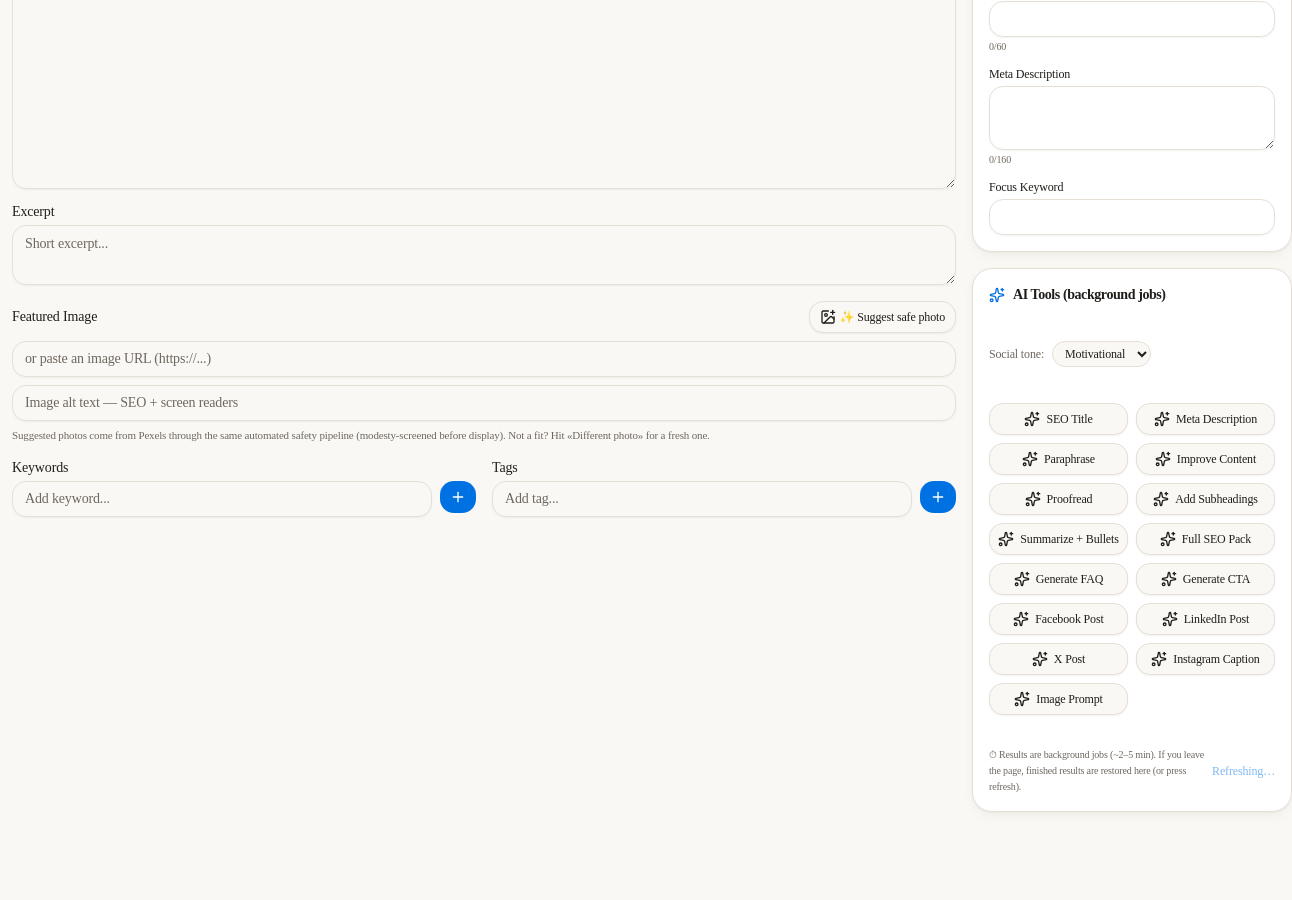
it: W1-3e behavior — the real editor in jsdom (keyboard user flow) › the labeled add button adds a chip that IS a focusable <button>
(page scrolled)
Expected: the button named "Add keyword" is shown, [440,481,476,513]
Type "whey protein" into the field with placeholder "Add keyword..." at (222, 499), box [12,481,432,517]
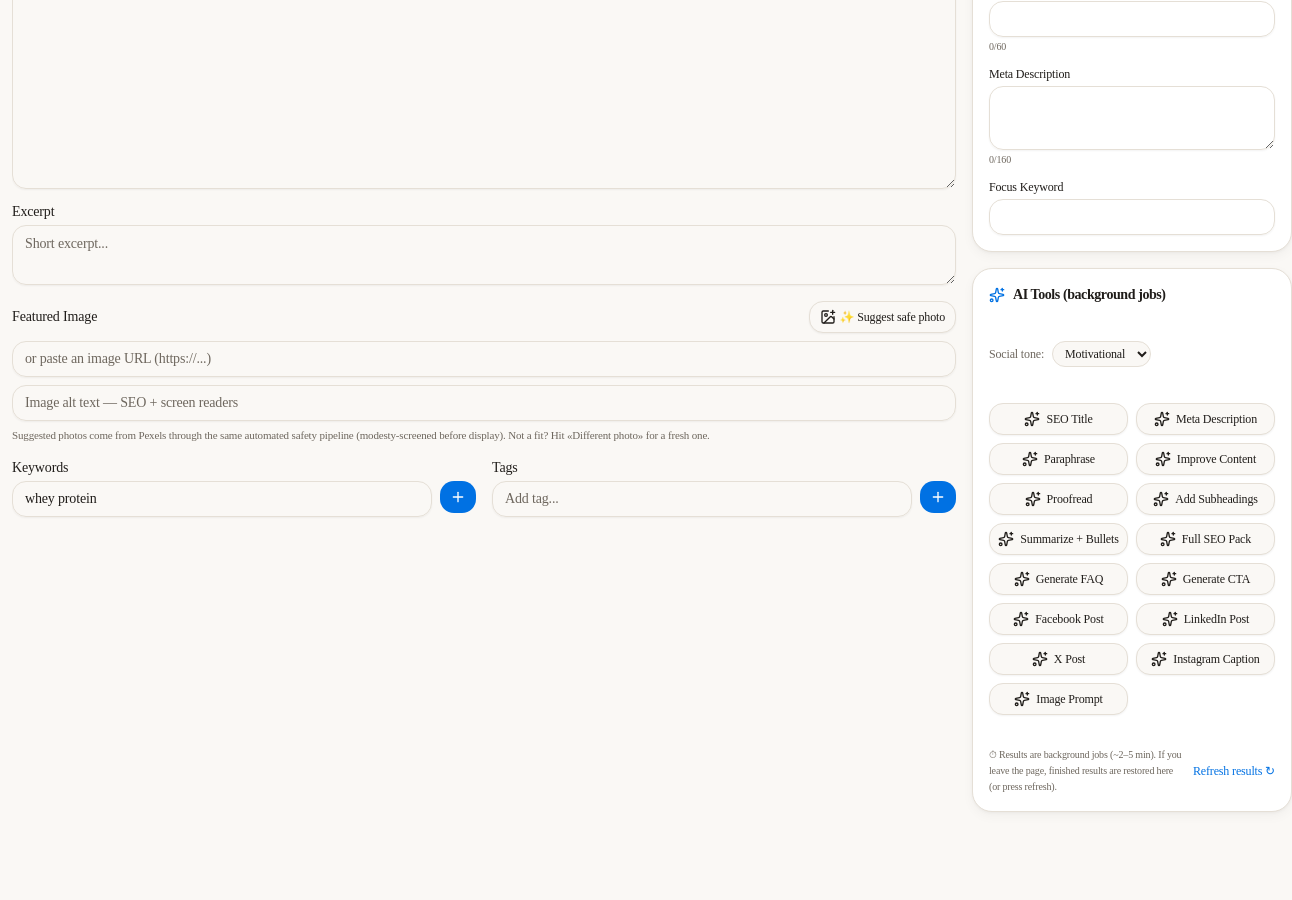
Click the button named "Add keyword" at (458, 497), box [440,481,476,513]
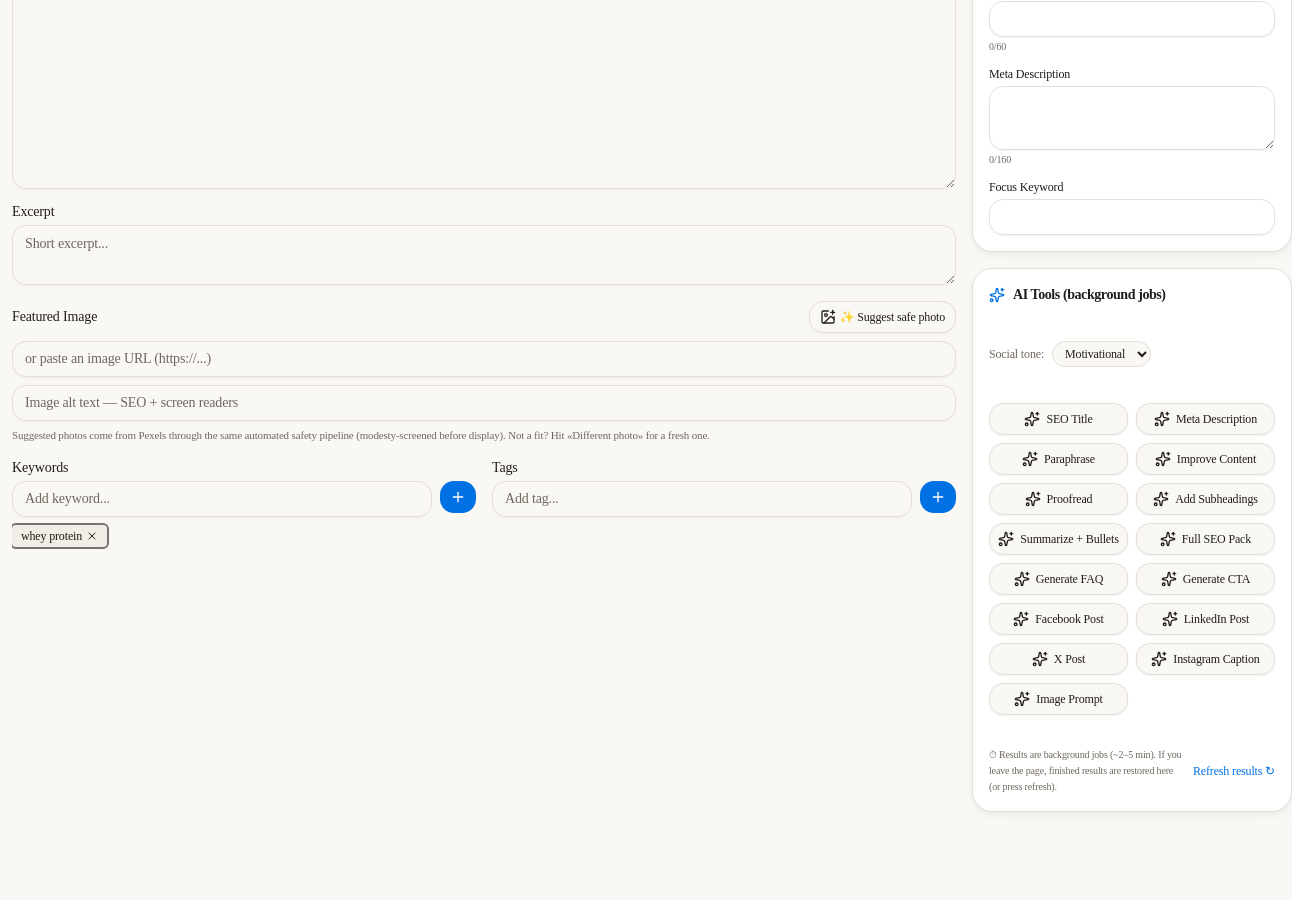
Expected: the button "whey protein" is shown, [12,525,107,547]
